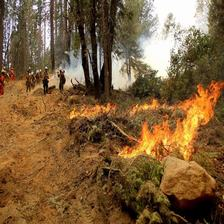fire: (72, 85, 221, 162)
